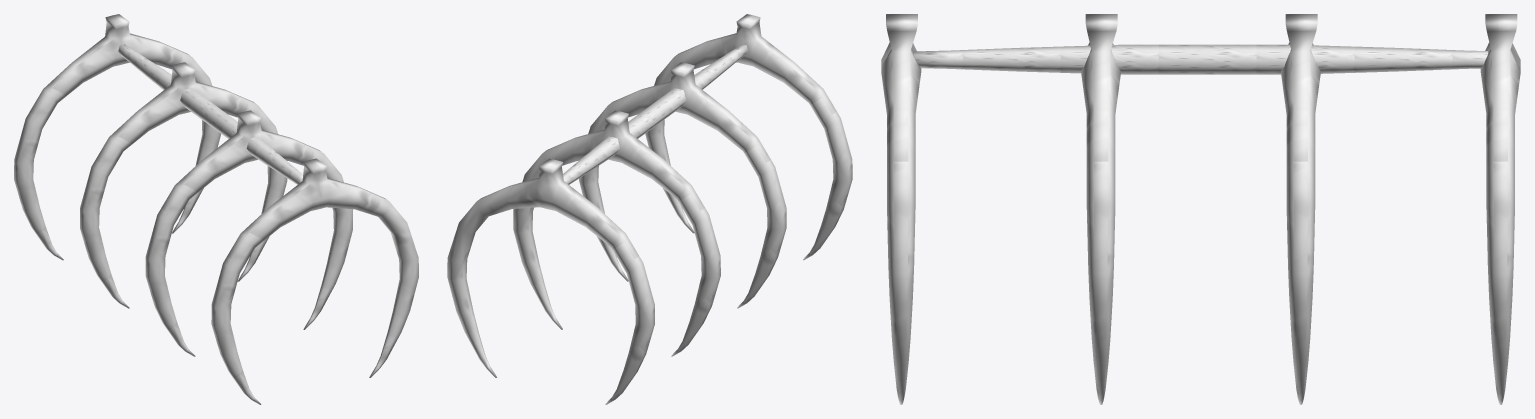
Rendered from osso costela sem cauda.fbx.
3 views of the same model, side by side, from view 1: azimuth 30°, elevation 25°; view 2: azimuth 150°, elevation 25°; view 3: azimuth 270°, elevation 25° (orthographic). The views are drawn at different scales.
Visible parts, largest first — view 1: ossos_caixa.002; view 2: ossos_caixa.002; view 3: ossos_caixa.002.
Part boxes in pixels (x1,y1,x2,y2): ossos_caixa.002: [14, 14, 418, 404]; ossos_caixa.002: [447, 14, 852, 404]; ossos_caixa.002: [881, 14, 1520, 404].
Size of the model in its own units: 448 by 478 by 802.
Materials: 1 (1 with a texture image).
